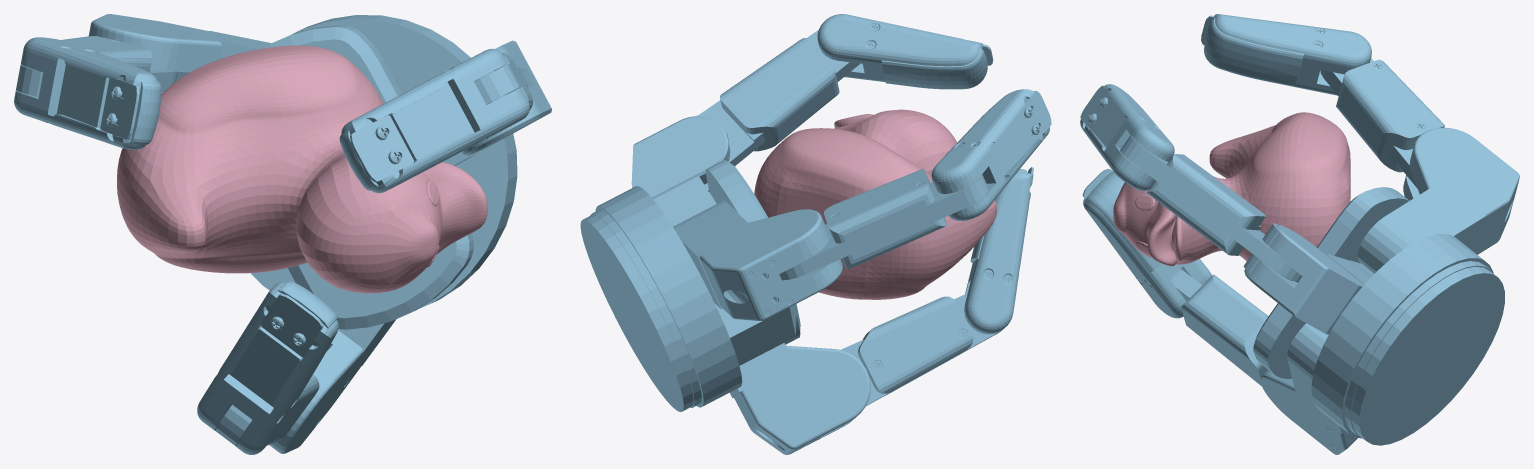
3 views of the same model, side by side, from view 1: azimuth 30°, elevation 25°; view 2: azimuth 150°, elevation 25°; view 3: azimuth 270°, elevation 25° (orthographic). The views are drawn at different scales.
Parts seen in each view (by area): view 1: world, rubber_duck.stl; view 2: world, rubber_duck.stl; view 3: world, rubber_duck.stl.
Part boxes in pixels (<box>): world: <box>14,14,551,454</box>; rubber_duck.stl: <box>117,45,487,293</box>; world: <box>580,14,1051,454</box>; rubber_duck.stl: <box>754,109,996,299</box>; world: <box>1080,14,1519,454</box>; rubber_duck.stl: <box>1113,112,1350,266</box>.
Size of the model in its own units: 0.1746 by 0.1583 by 0.1777.
